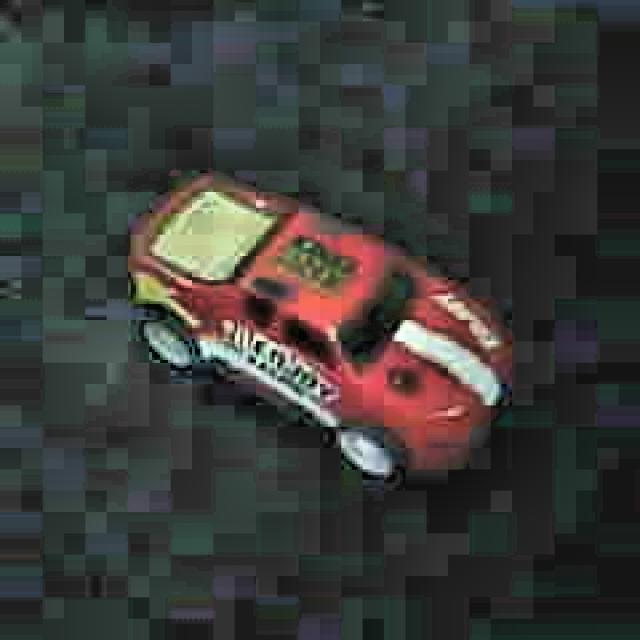car: (125, 167, 518, 489)
